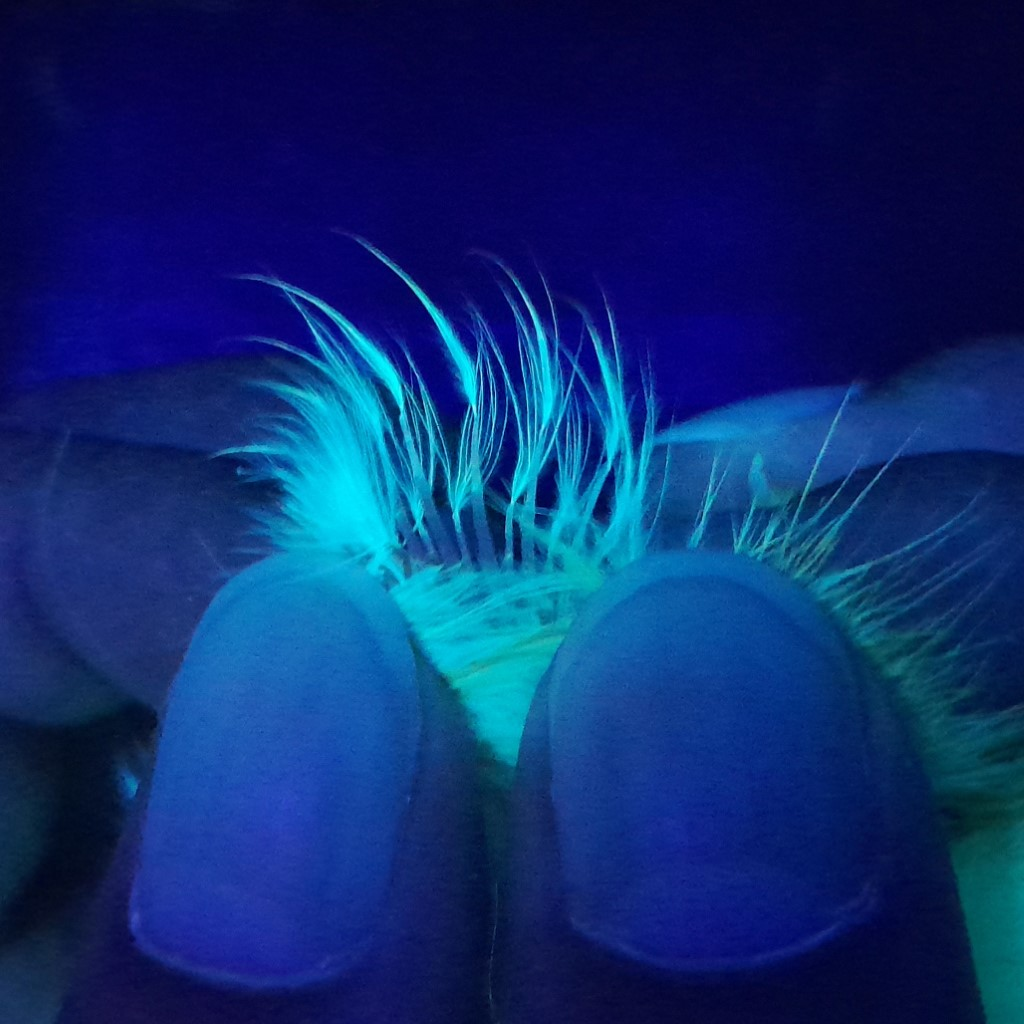male: (331, 395, 655, 697)
